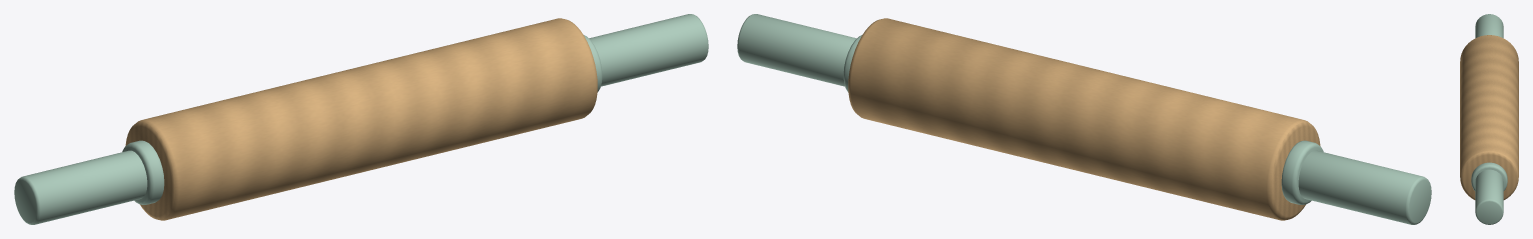
The model's file is hazard_rolling_pin.glb.
The picture shows the model from 3 angles, left to right: view 1: azimuth 30°, elevation 25°; view 2: azimuth 150°, elevation 25°; view 3: azimuth 270°, elevation 25°; orthographic projection. The views are drawn at different scales.
Visible parts, largest first — view 1: rolling_pin_barrel, mint_handle; view 2: rolling_pin_barrel, mint_handle; view 3: rolling_pin_barrel, mint_handle.
Part boxes in pixels (left/top/right/bottom): rolling_pin_barrel: left=125, top=18, right=597, bottom=220; mint_handle: left=14, top=14, right=708, bottom=224; rolling_pin_barrel: left=848, top=18, right=1320, bottom=220; mint_handle: left=737, top=14, right=1431, bottom=224; rolling_pin_barrel: left=1460, top=35, right=1518, bottom=199; mint_handle: left=1471, top=14, right=1507, bottom=224.
Size of the model in its own units: 2.18 by 0.29 by 0.29.
2 materials, 1 textured.
